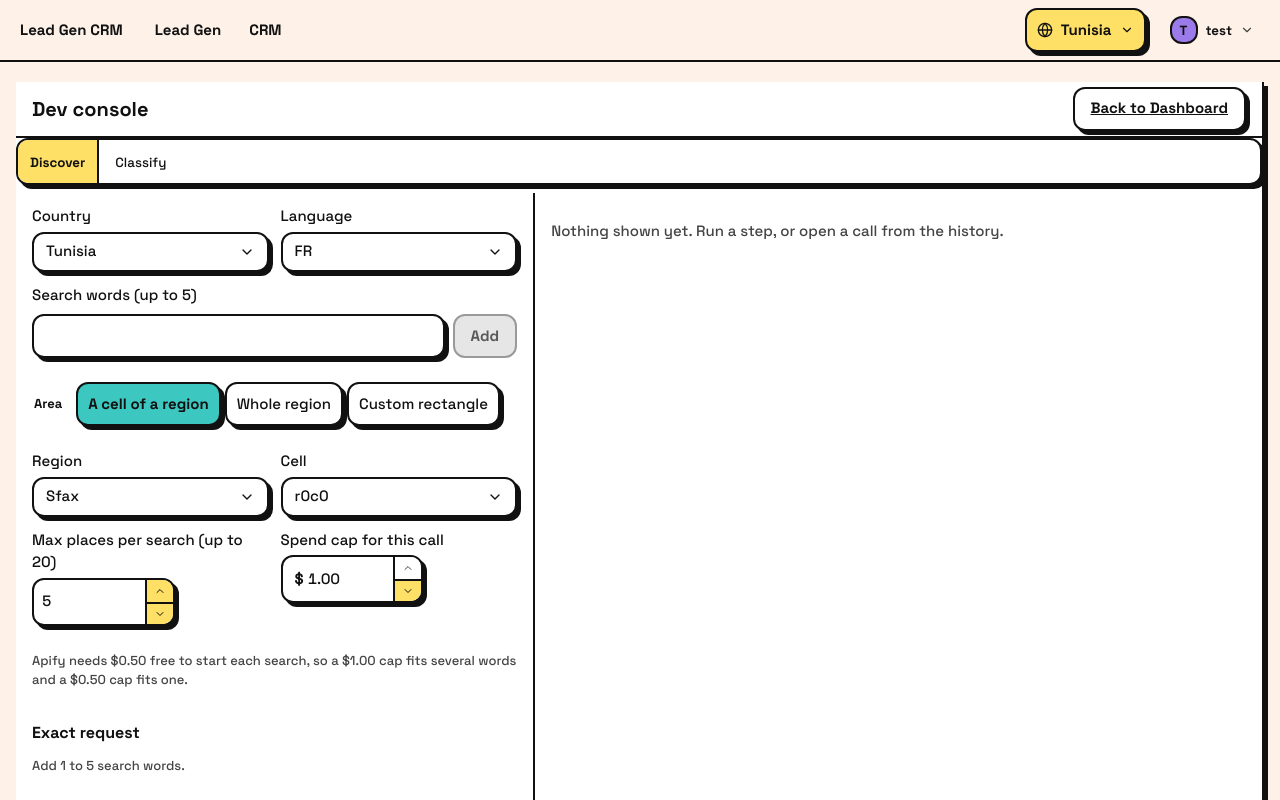
Scenario: Dev console page › shows the exact request and the estimate once the form is valid, without spending
Expected: the heading "Dev console" is shown, [32,97,148,121]
Expected: the tab "Discover" is shown, [18,140,99,184]
Type "importateur" into the field labelled "Search words (up to 5)" at (238, 336), box [32,314,444,358]
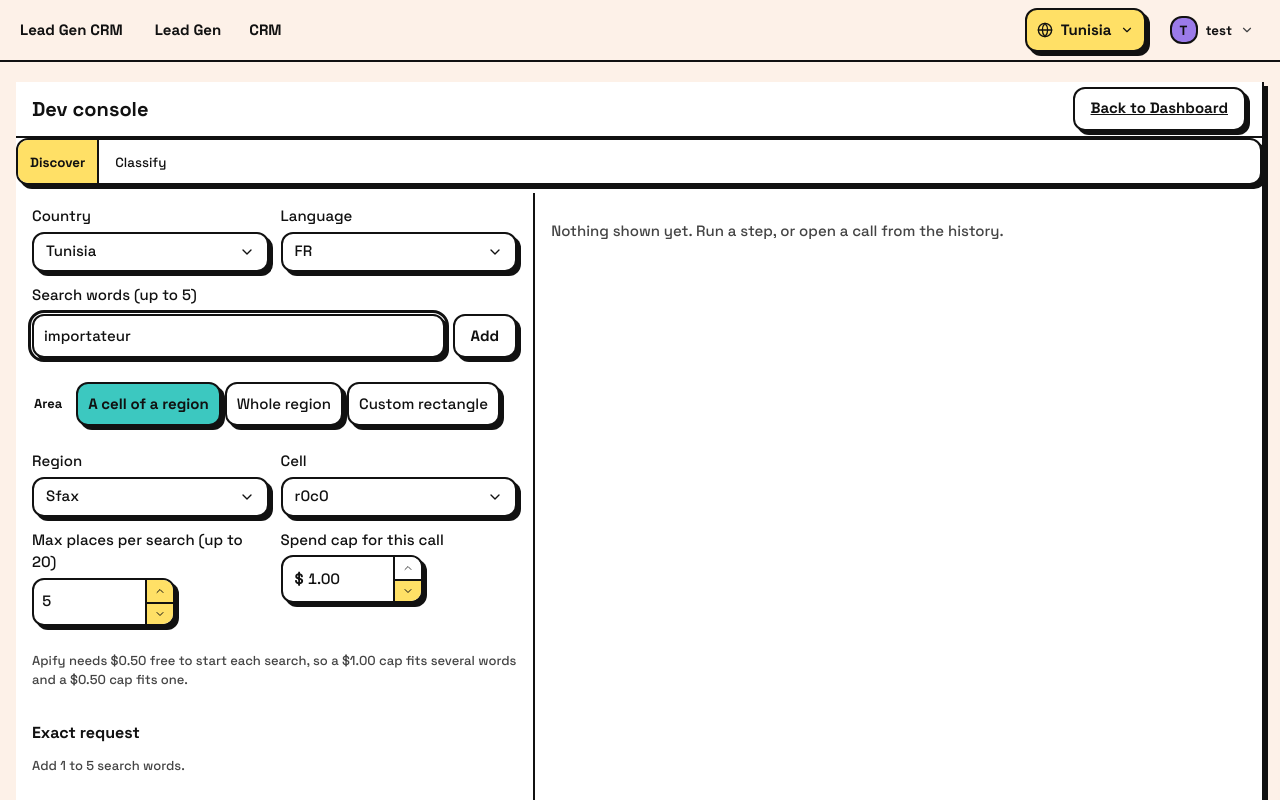
Click the button "Add" at (485, 336), box [452,314,517,358]
(page scrolled)
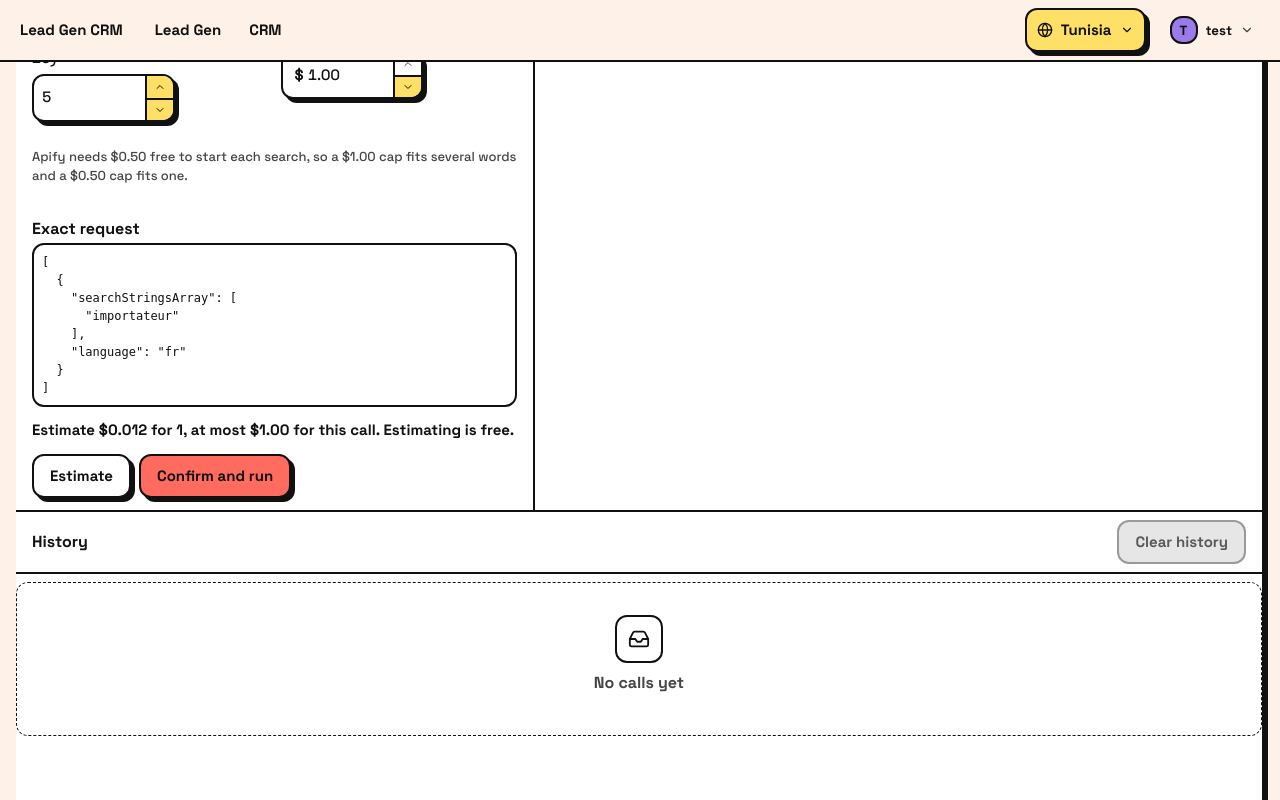
Result: the text "searchStringsArray" is shown at [42,255,237,395]
Result: the message shows "Estimate $0.012" at [32,420,514,439]
